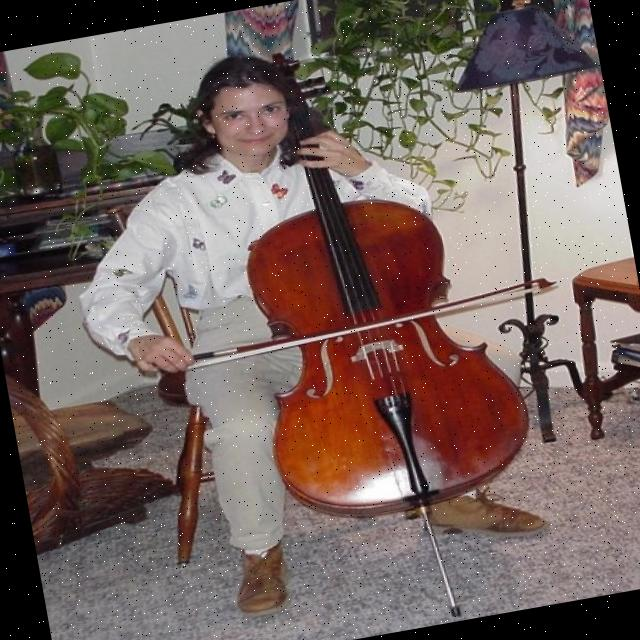cello: (206, 26, 544, 536)
